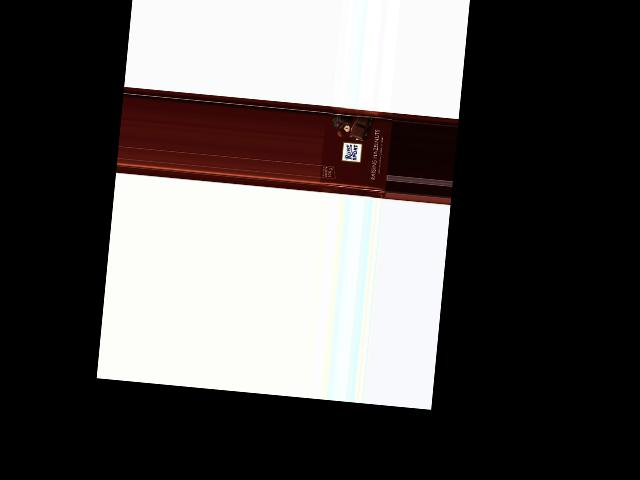chocolate: (318, 104, 394, 198)
